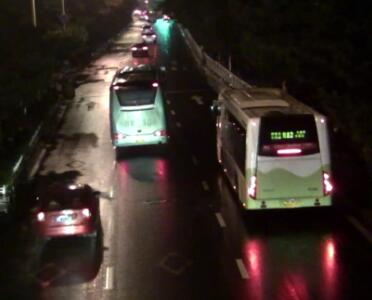bus: (211, 85, 336, 220), (108, 69, 170, 155)
car: (31, 180, 97, 237), (130, 41, 147, 54), (139, 30, 156, 40), (141, 22, 154, 33)
